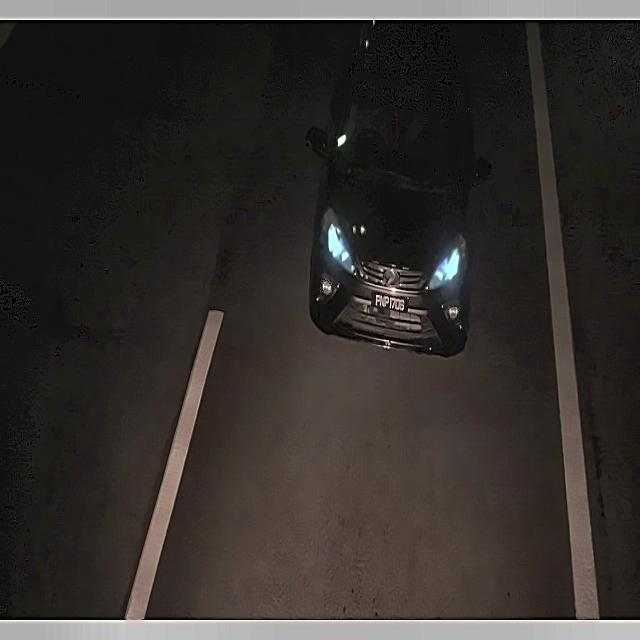car: (371, 288, 410, 315)
